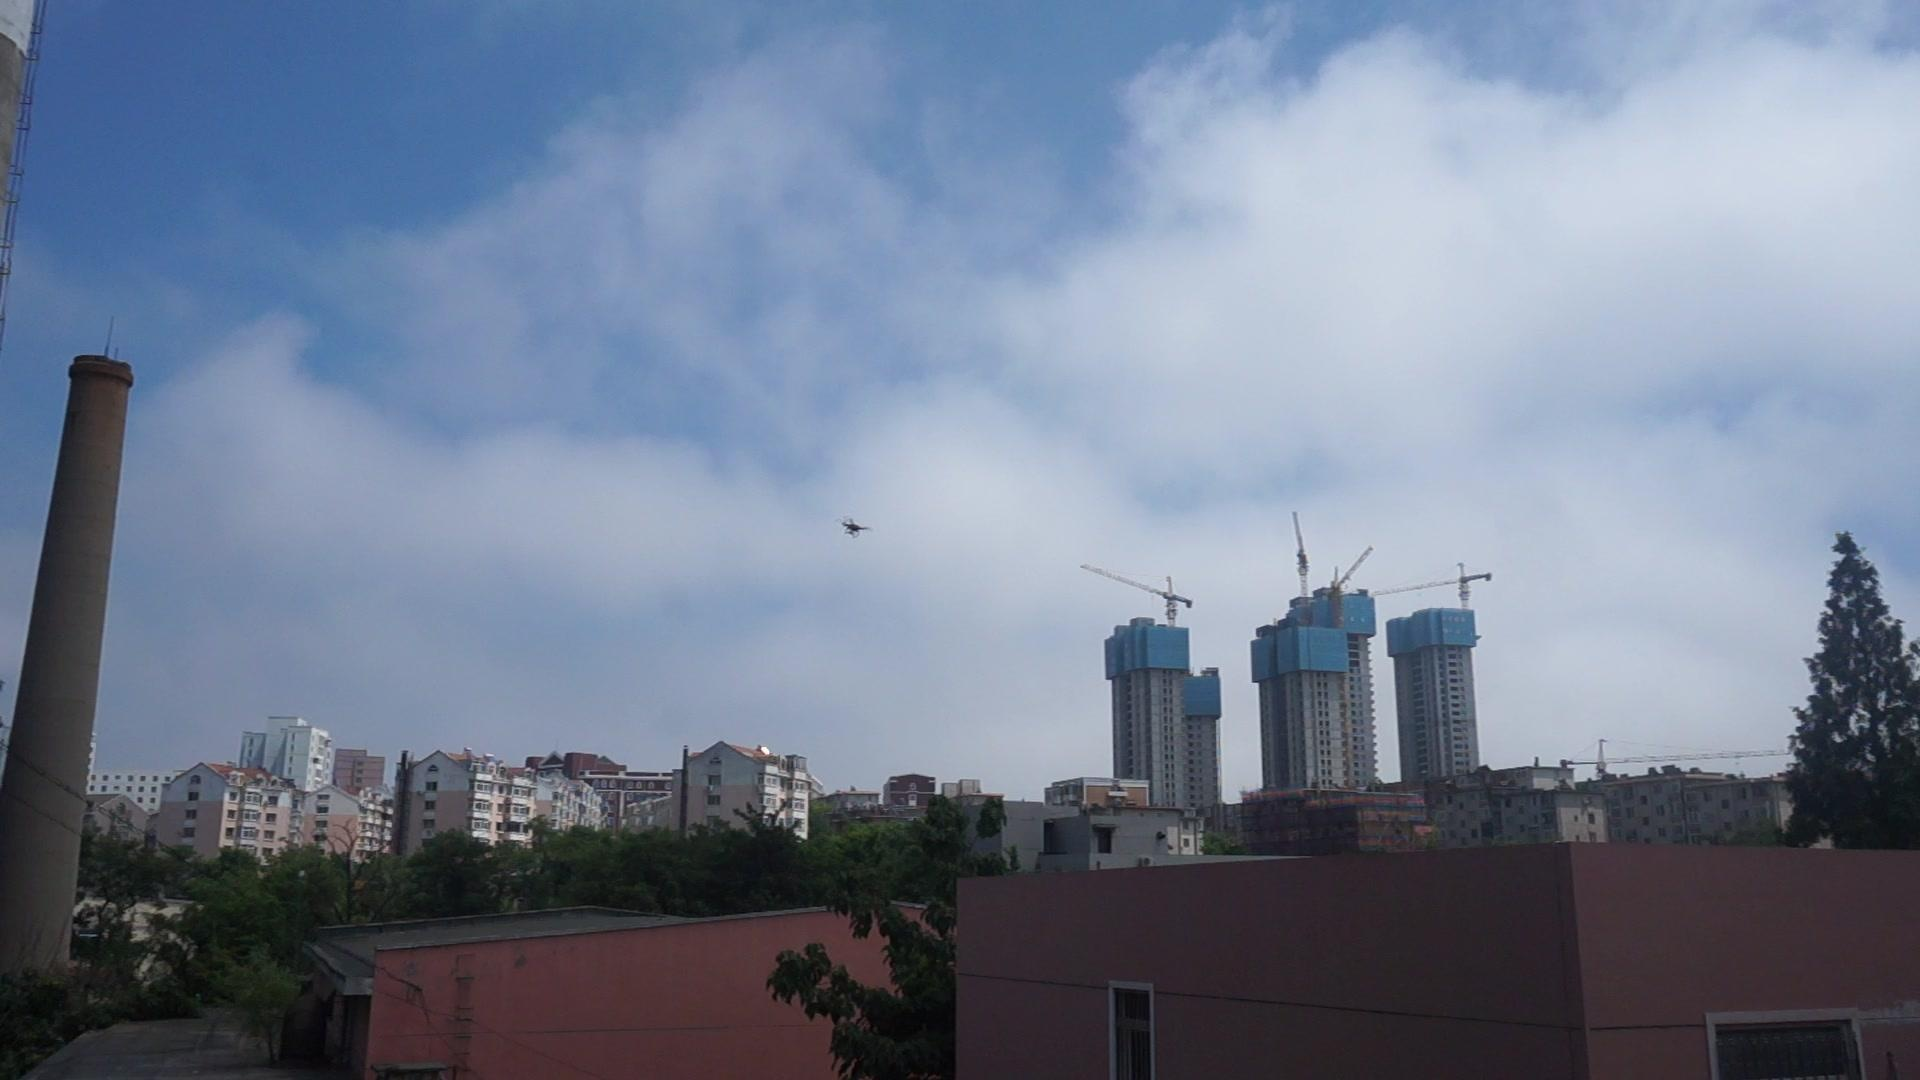UAV: (835, 514, 877, 539)
